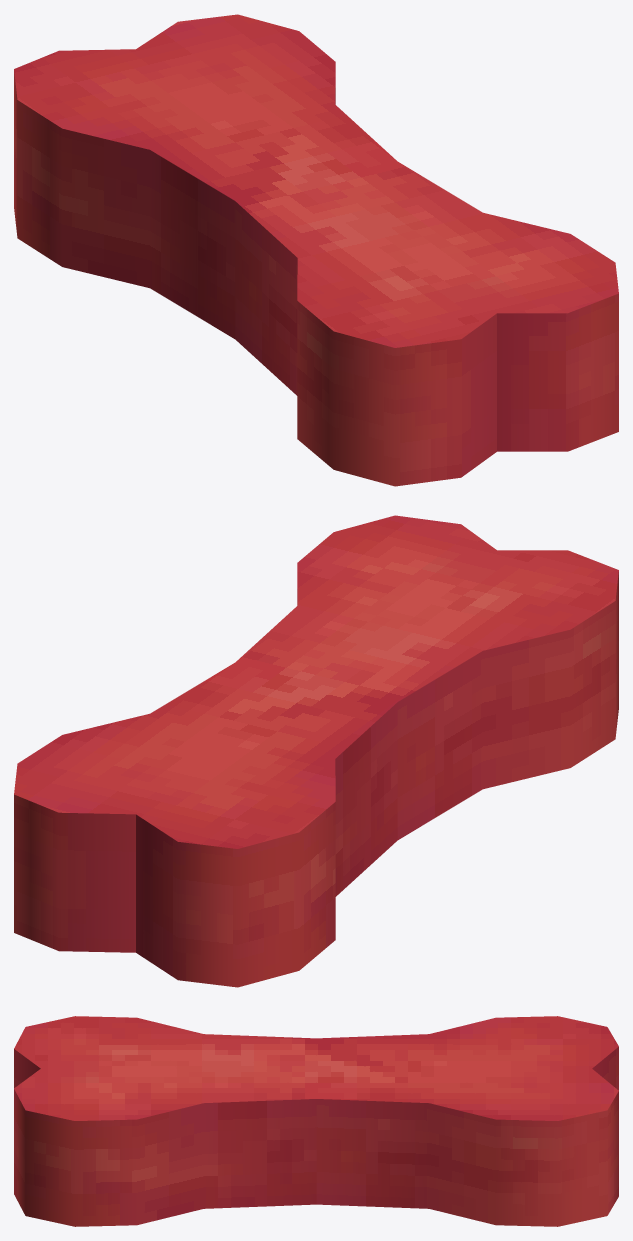
File: huesito.fbx
3 views of the same model, one above another, from view 1: azimuth 30°, elevation 25°; view 2: azimuth 150°, elevation 25°; view 3: azimuth 270°, elevation 25° (orthographic). The views are drawn at different scales.
Visible parts, largest first — view 1: s4studio_mesh_0; view 2: s4studio_mesh_0; view 3: s4studio_mesh_0.
Part boxes in pixels (<box>): s4studio_mesh_0: <box>14,14,618,486</box>; s4studio_mesh_0: <box>14,515,618,987</box>; s4studio_mesh_0: <box>14,1016,618,1226</box>.
Size of the model in its own units: 3.89 by 1.83 by 9.47.
Materials: 1 (1 with a texture image).
